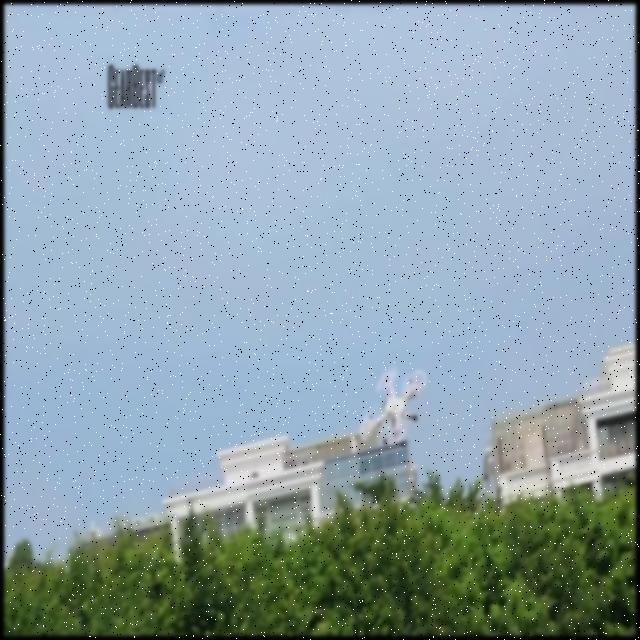UAV: (360, 371, 426, 447)
